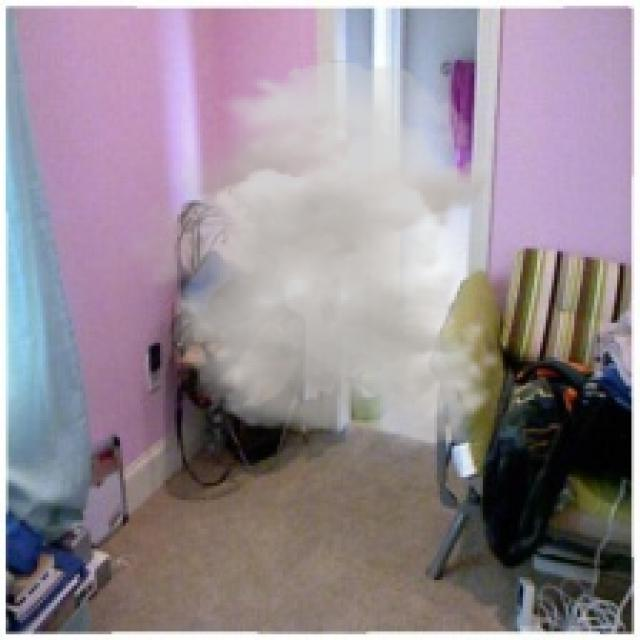smoke: (117, 60, 506, 449)
